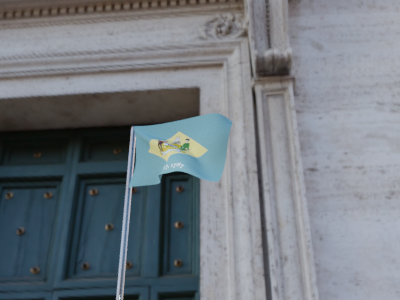Delaware flag: (130, 112, 234, 187)
